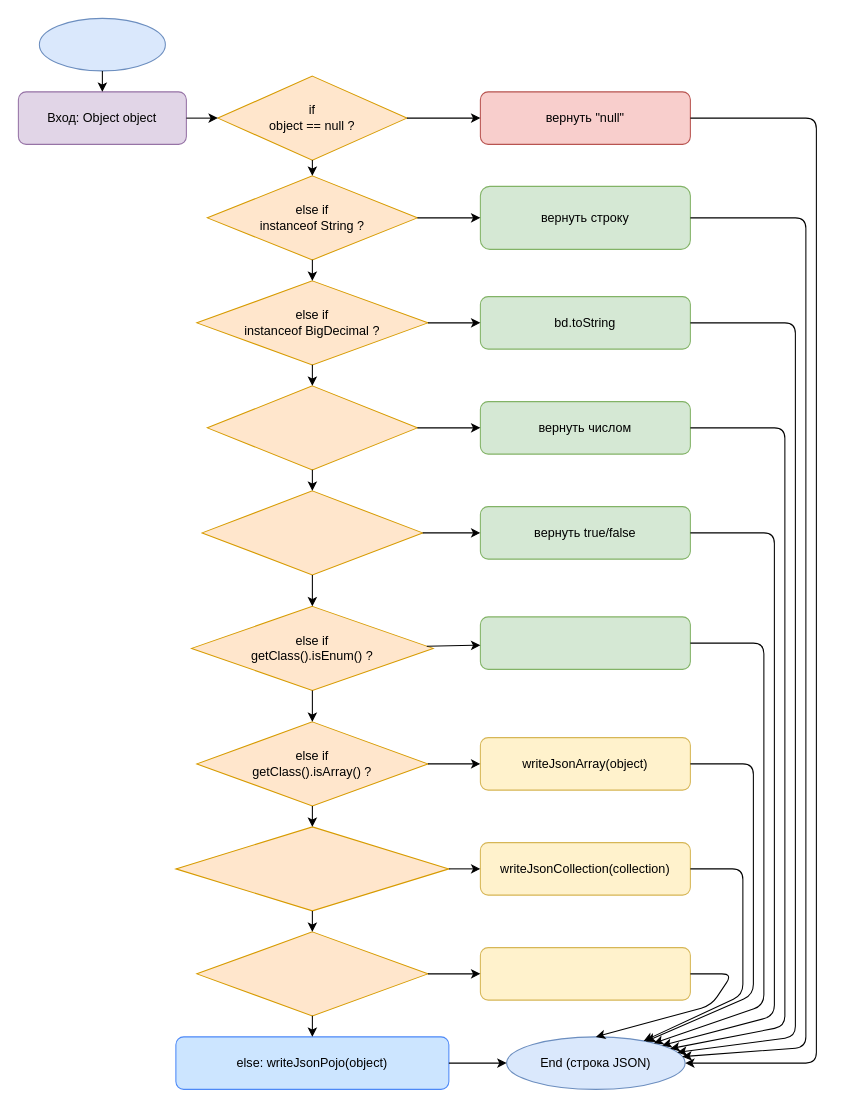
Image size: 843x1108. Some labels were removed from this diagram. The shapes that lost their labels are listed below. From the top down, each one's box as (x1, y1, x2, y2) in pixels, then its label:
(38, 17, 165, 71): Start
(206, 385, 417, 470): else if instanceof Number ?
(201, 490, 423, 575): else if instanceof Boolean ?
(479, 616, 690, 669): вернуть "((Enum)name)"
(175, 826, 449, 911): else if object instanceof Collection ?
(196, 931, 428, 1016): else if object instanceof Map ?
(479, 947, 690, 1000): writeJsonMap(map)
